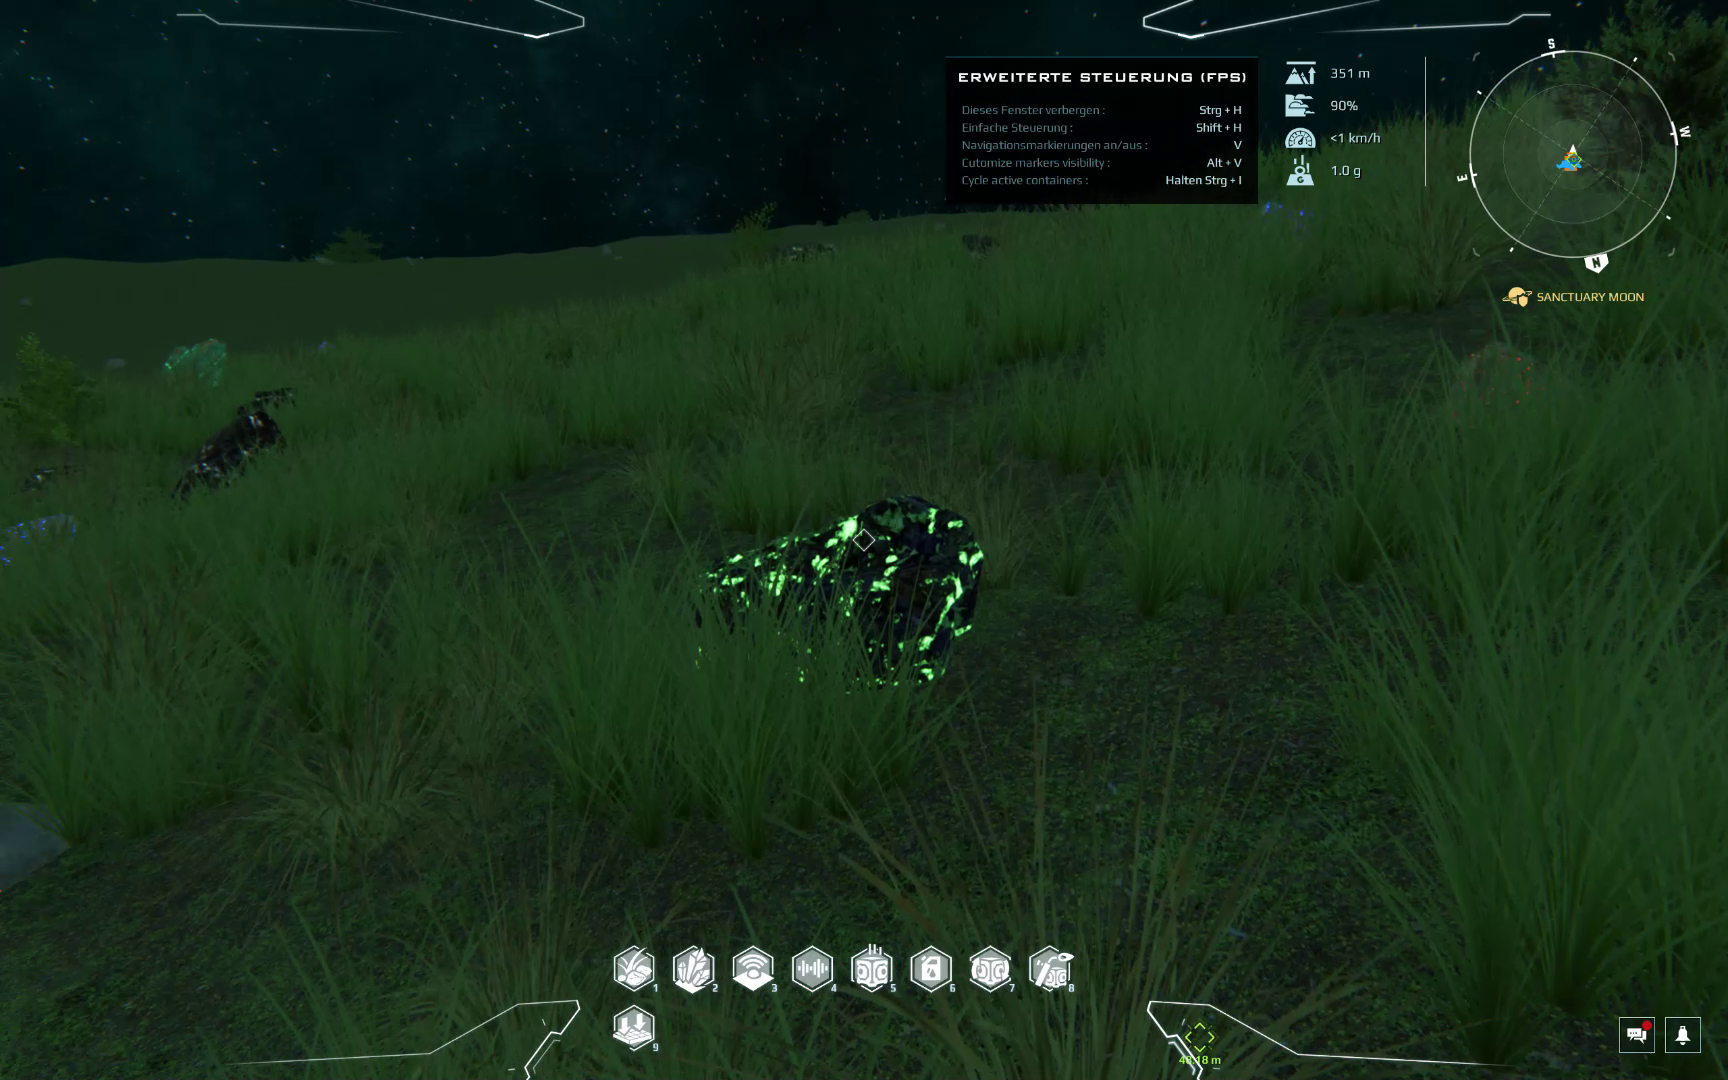Ore: (687, 491, 988, 707), (172, 407, 286, 503), (1452, 336, 1553, 419), (5, 515, 90, 554), (1257, 199, 1322, 240), (17, 458, 80, 496), (241, 379, 300, 413), (778, 240, 829, 265), (957, 231, 1001, 258)
